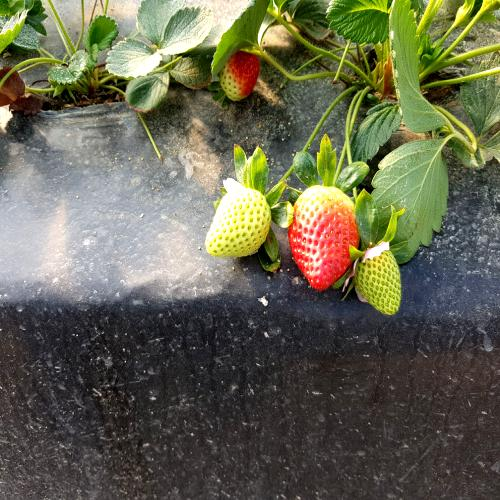partially-ripe: (289, 180, 358, 292)
unripe: (203, 174, 271, 272), (358, 235, 407, 322)
